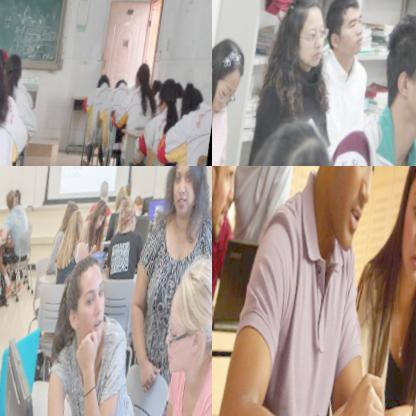head: (156, 249, 212, 397), (230, 109, 346, 166), (53, 249, 111, 360), (378, 10, 416, 139), (275, 0, 333, 78), (387, 166, 416, 298), (160, 166, 212, 233), (212, 36, 249, 130), (320, 0, 371, 68), (212, 166, 249, 246), (114, 195, 140, 241), (176, 87, 204, 129), (0, 53, 26, 94), (156, 77, 180, 121), (87, 198, 108, 236), (64, 209, 84, 248), (60, 198, 78, 234), (132, 67, 151, 98), (111, 182, 127, 214), (95, 182, 112, 209), (94, 75, 111, 101), (0, 187, 15, 216), (170, 83, 186, 110), (148, 81, 164, 107), (203, 202, 212, 246), (130, 192, 144, 217), (113, 79, 129, 100), (0, 49, 7, 92), (10, 187, 22, 211)
